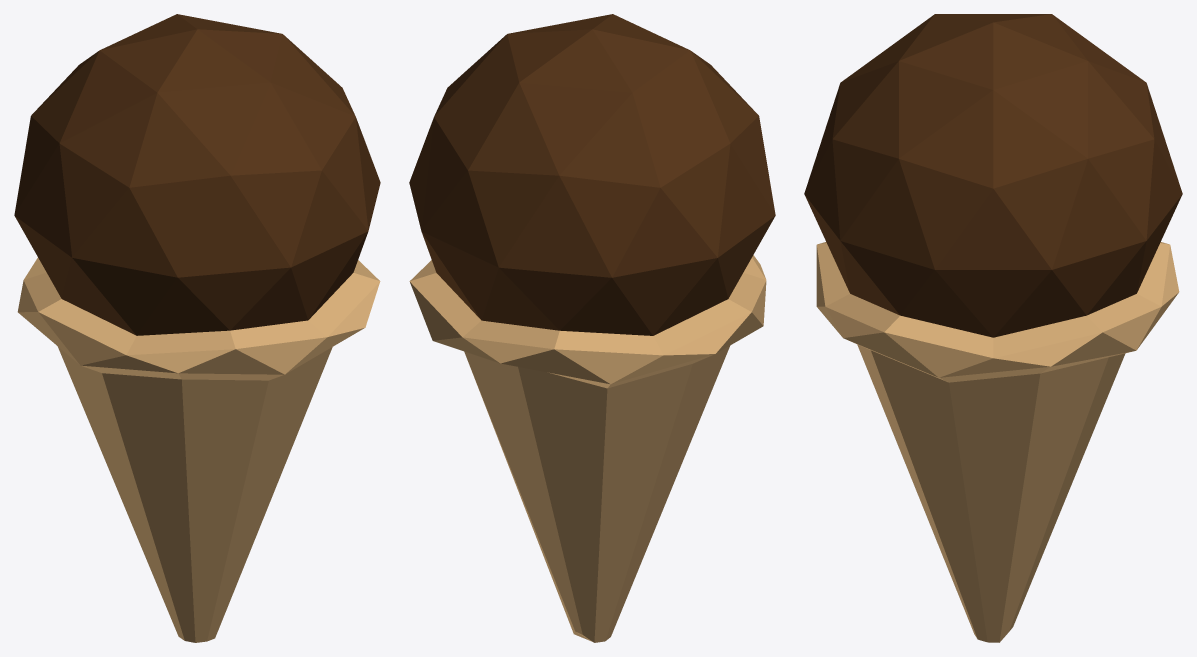
File: ice_chocolate.fbx
3 views of the same model, side by side, from view 1: azimuth 30°, elevation 25°; view 2: azimuth 150°, elevation 25°; view 3: azimuth 270°, elevation 25° (orthographic).
Visible parts, largest first — view 1: ice_chocolate; view 2: ice_chocolate; view 3: ice_chocolate.
Part boxes in pixels (<box>): ice_chocolate: <box>14,14,380,642</box>; ice_chocolate: <box>409,14,775,642</box>; ice_chocolate: <box>804,14,1182,642</box>.
Bounding box in the file's own units: 7.33 × 13.66 × 7.59.
